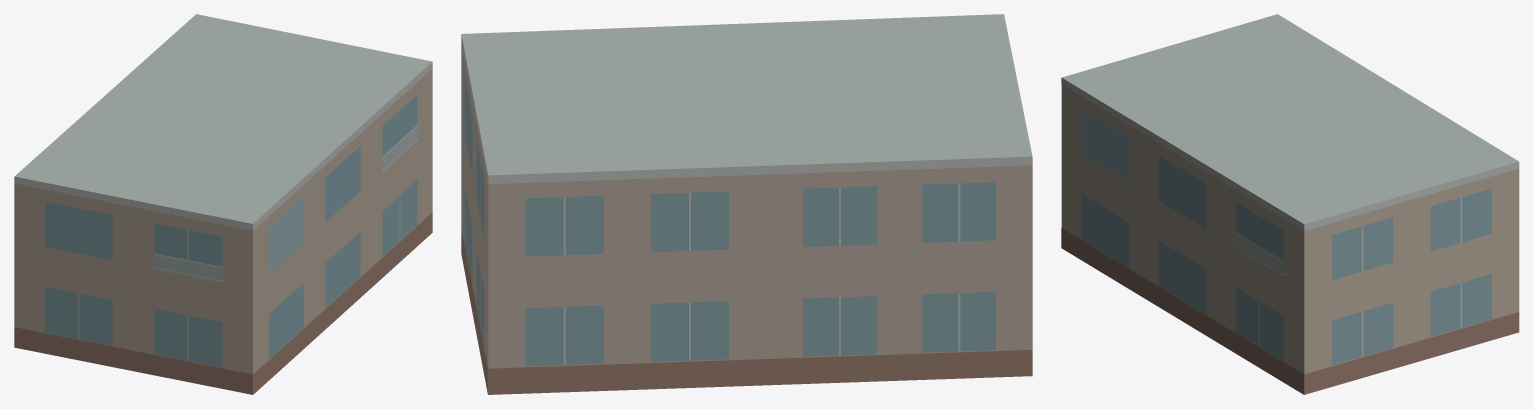
The model's file is survey-upis-32635948.glb.
The picture shows the model from 3 angles, left to right: view 1: azimuth 30°, elevation 25°; view 2: azimuth 150°, elevation 25°; view 3: azimuth 270°, elevation 25°; orthographic projection. The views are drawn at different scales.
Visible parts, largest first — view 1: survey-upis-32635948.tmp; view 2: survey-upis-32635948.tmp; view 3: survey-upis-32635948.tmp.
Boxes of the visible parts, box(x1,y1,x2,y2) form: survey-upis-32635948.tmp: box(14, 14, 432, 394); survey-upis-32635948.tmp: box(461, 14, 1032, 394); survey-upis-32635948.tmp: box(1061, 14, 1519, 394).
Bounding box in the file's own units: 16.13 × 6.1 × 14.84.
